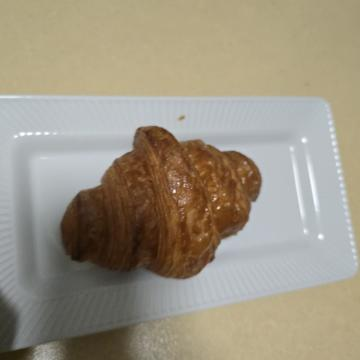croissant: (117, 87, 289, 308)
